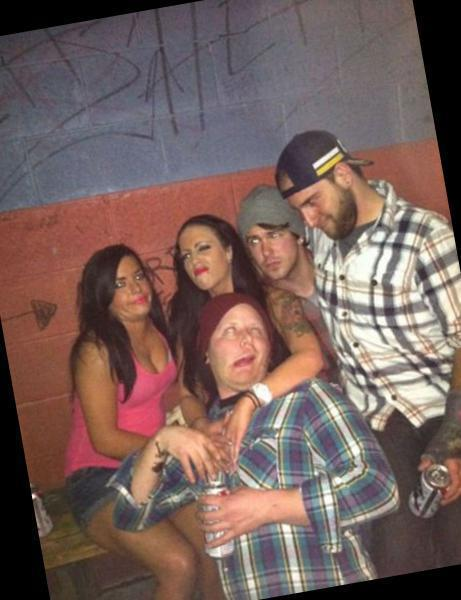Drunk: (212, 307, 269, 382), (290, 185, 353, 243), (103, 253, 153, 320), (250, 224, 299, 279), (178, 230, 223, 289)
